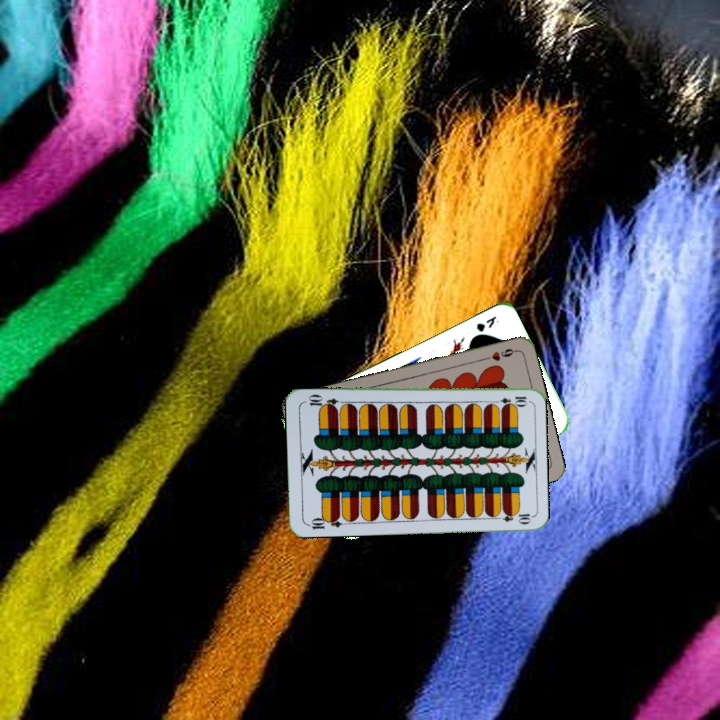E10: (303, 512, 344, 532), (489, 392, 529, 407)
GK: (472, 312, 501, 335)
H9: (479, 344, 519, 364)
